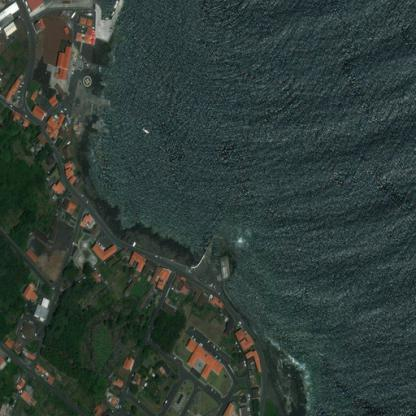ship: (126, 128, 131, 133)
